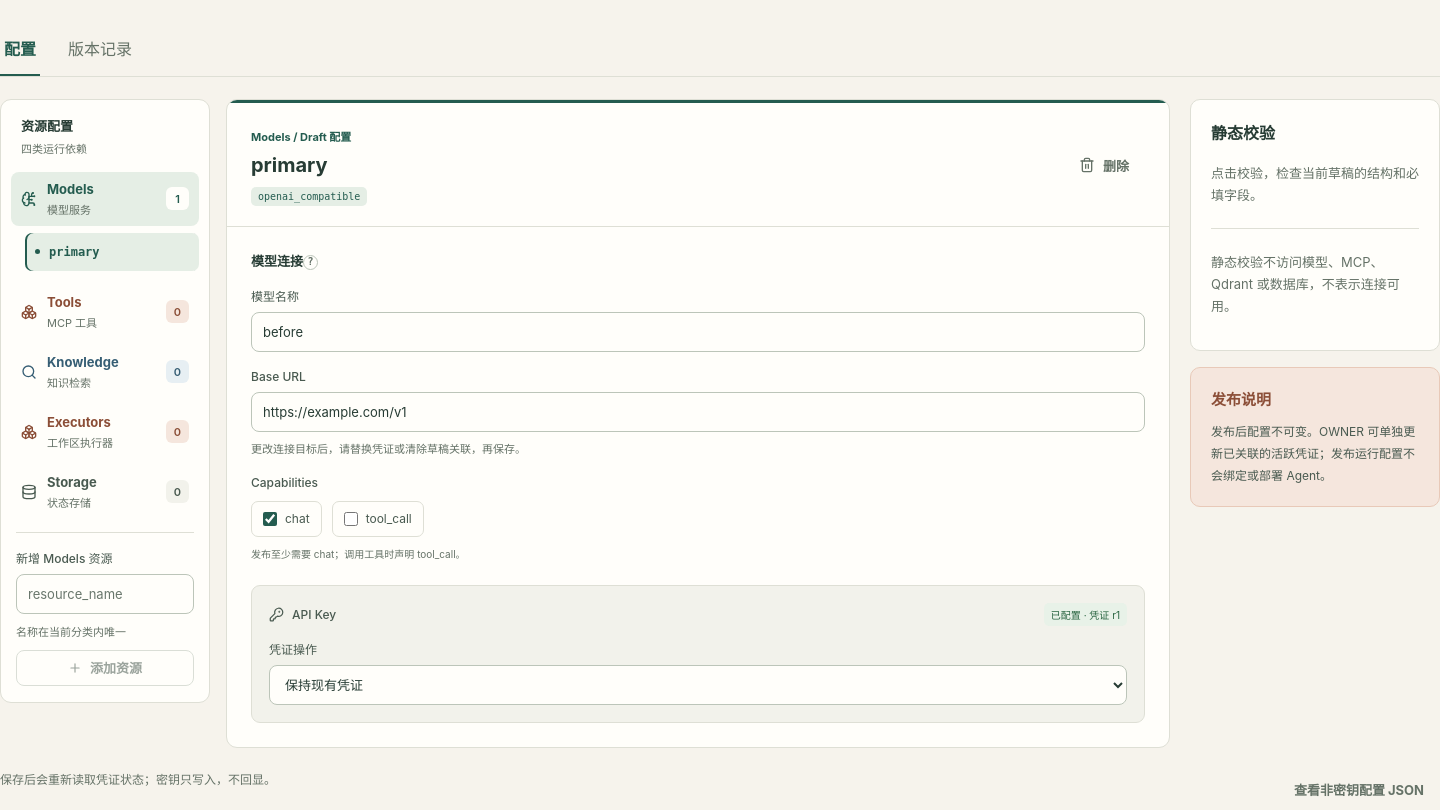
Test: Runtime Profile workspace › never shows write-only credentials or association tokens in config JSON
The width and height of the screenshot is (1440, 810).
(page scrolled)
Select "替换凭证" in the dropdown named "API Key 操作": [698, 685] box [269,665,1127,705]
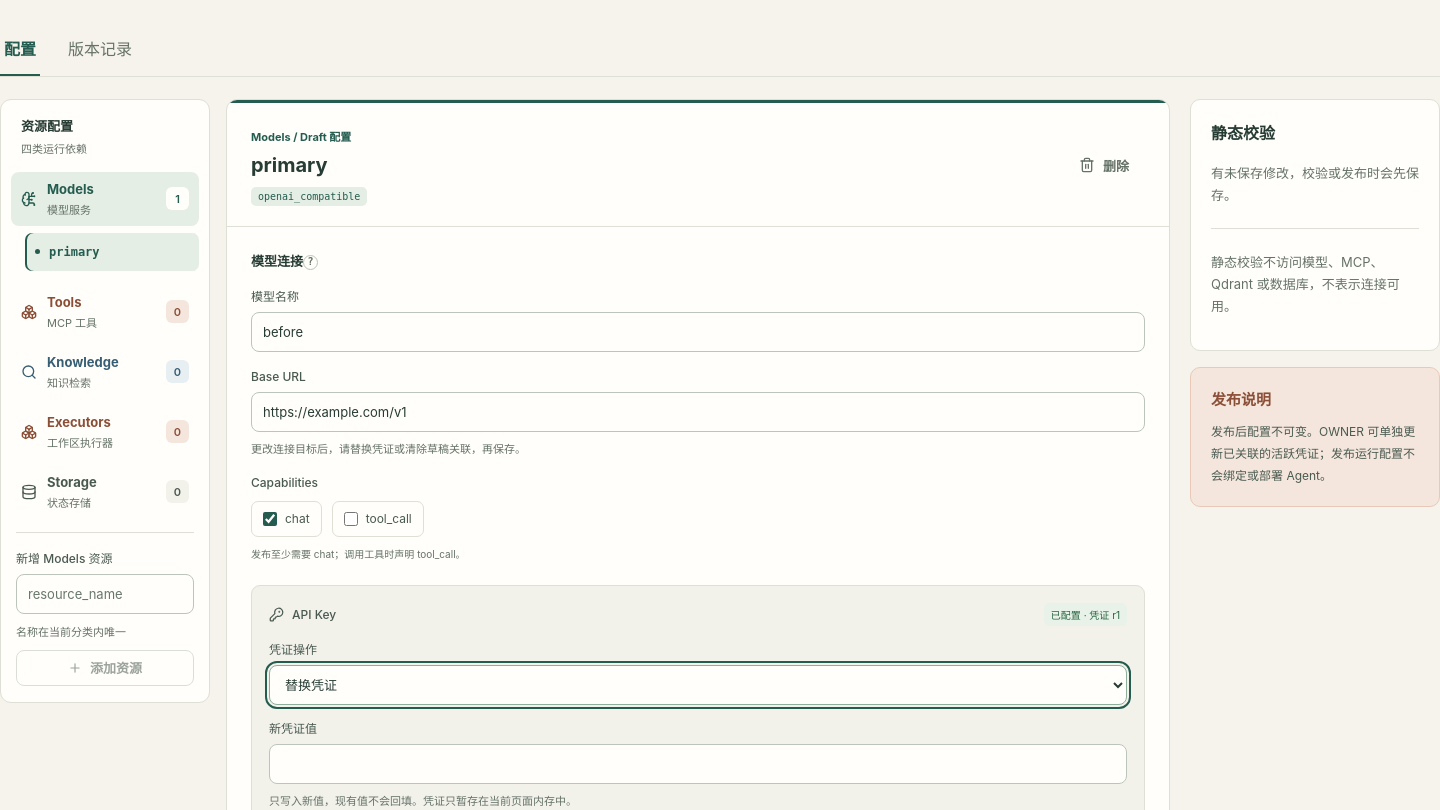
In the password field named "API Key 新值": [698, 764] box [269,744,1127,784], type "synthetic-private-value"
(page scrolled)
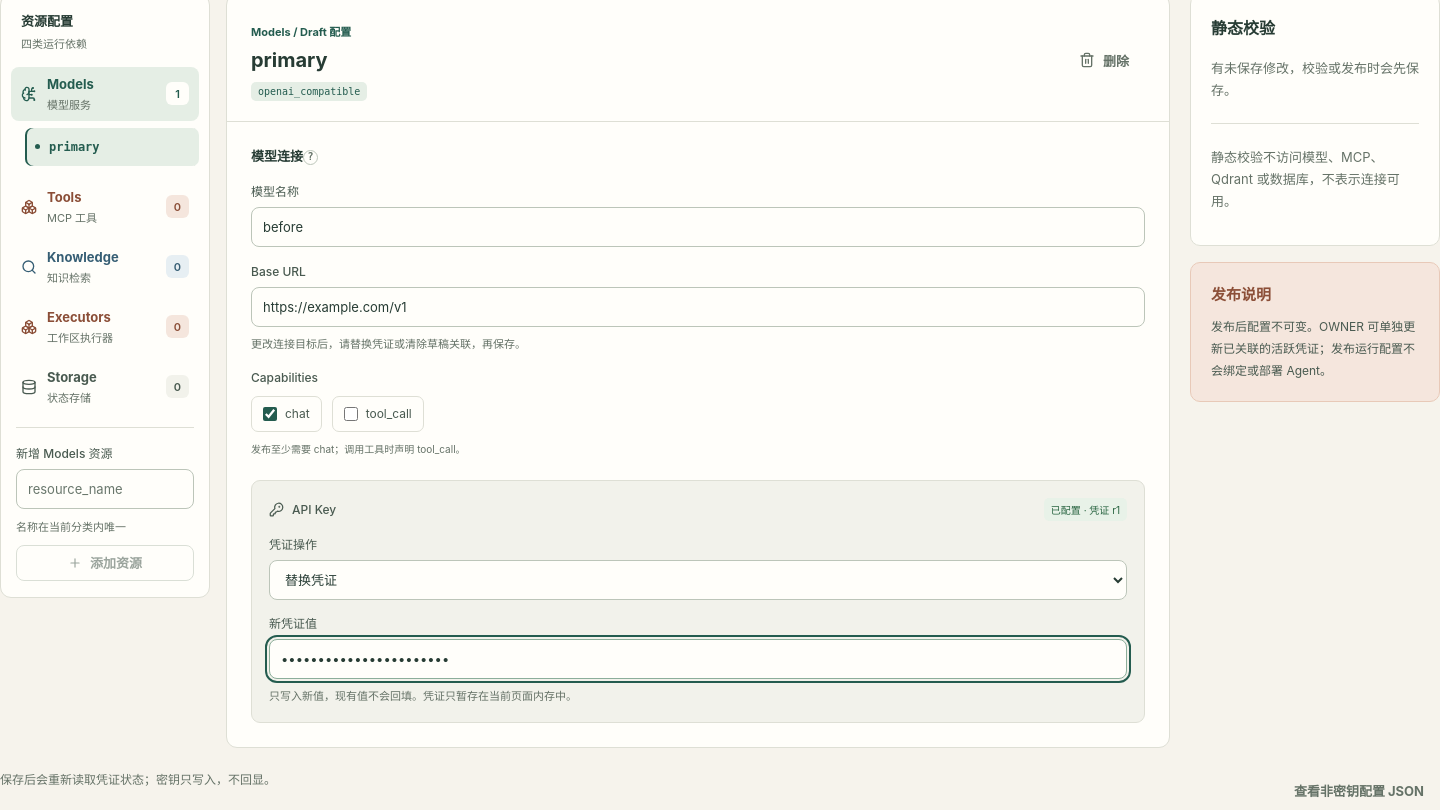
Click the button "查看非密钥配置 JSON": [1359, 790] box [1278,770,1439,809]
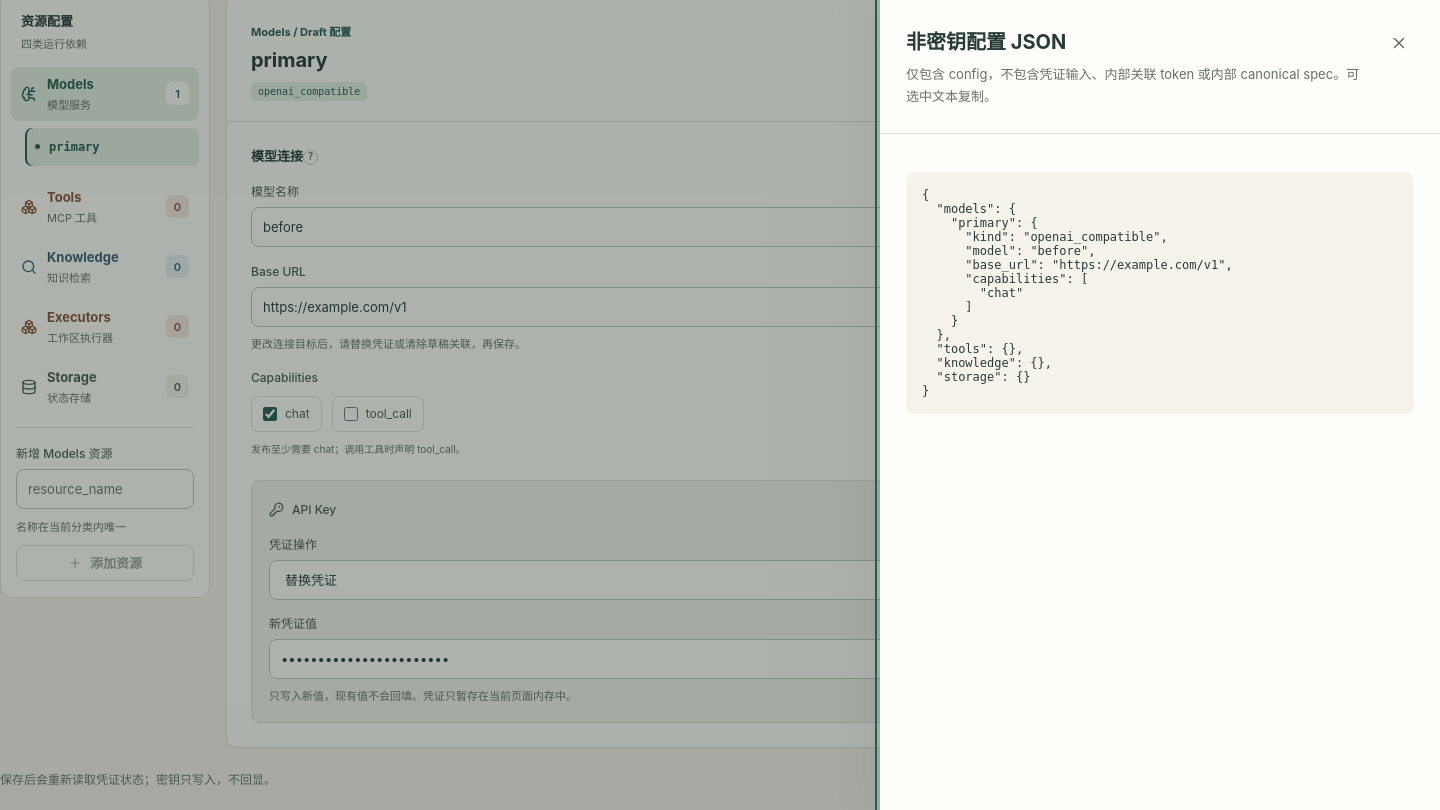
Check: the dialog shows "openai_compatible", box [922,188,1233,398]
